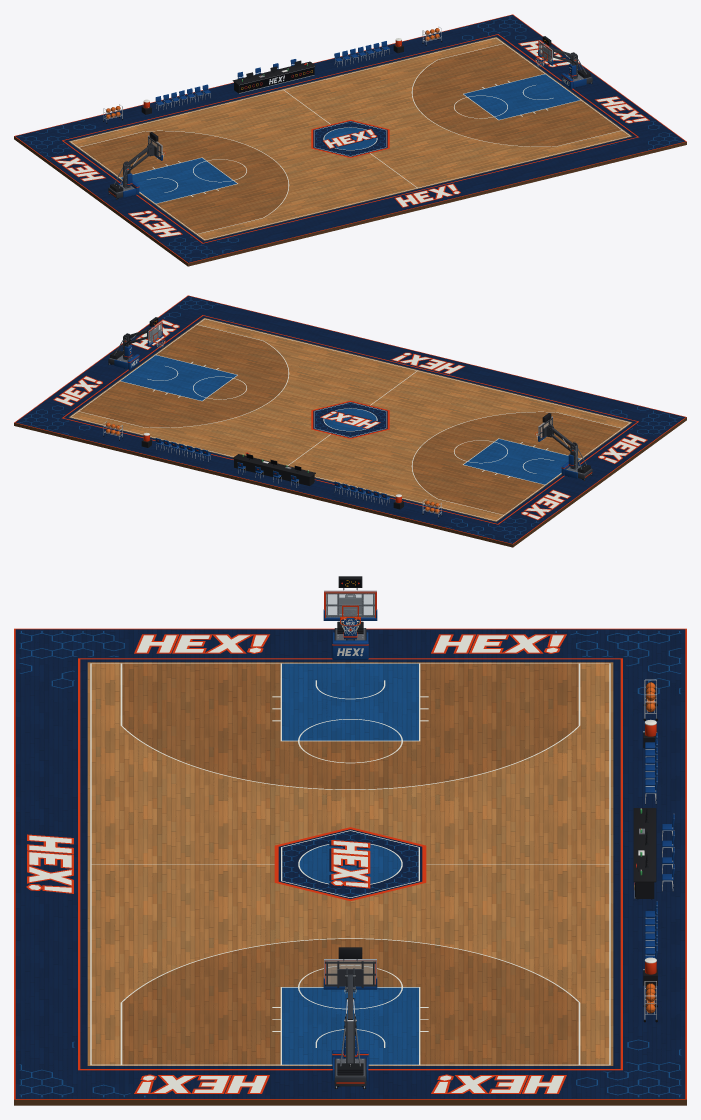
Rendered from HEX_Basketball_Court_v4.fbx.
The picture shows the model from 3 angles, top to bottom: view 1: azimuth 30°, elevation 25°; view 2: azimuth 150°, elevation 25°; view 3: azimuth 270°, elevation 25°; orthographic projection. The views are drawn at different scales.
Visible parts, largest first — view 1: Court_Surface, Court_Apron, Court_Surface_Tone, Court_Surface_Blue, Court_Apron_Marks, Court_Lines, Court_Apron_Skirt, Scorer_Table, Court_Surface_Navy, Court_Apron_Hex, Sideline_Seat_Pads, Hoop_B_Stanchion (+4 smaller); view 2: Court_Surface, Court_Apron, Court_Surface_Tone, Court_Surface_Blue, Court_Apron_Marks, Court_Lines, Court_Apron_Skirt, Scorer_Table, Court_Surface_Navy, Court_Apron_Hex, Sideline_Seat_Pads, Hoop_B_Stanchion (+4 smaller); view 3: Court_Surface, Court_Apron, Court_Surface_Tone, Court_Surface_Blue, Court_Apron_Marks, Court_Lines, Court_Apron_Skirt, Court_Surface_Navy, Court_Apron_Hex, Scorer_Table, Hoop_A_Stanchion, Sideline_Seat_Pads (+4 smaller).
Part boxes in pixels (box(x1,y1,x2,y2)): Court_Surface: box(69, 37, 631, 240); Court_Apron: box(15, 15, 685, 262); Court_Surface_Tone: box(79, 44, 621, 233); Court_Surface_Blue: box(120, 74, 579, 203); Court_Apron_Marks: box(14, 14, 686, 263); Court_Lines: box(70, 38, 630, 239); Court_Apron_Skirt: box(14, 136, 686, 266); Scorer_Table: box(232, 60, 315, 93); Court_Surface_Navy: box(313, 121, 387, 156); Court_Apron_Hex: box(18, 16, 681, 261); Sideline_Seat_Pads: box(155, 41, 389, 105); Hoop_B_Stanchion: box(108, 146, 151, 199); Court_Surface: box(69, 318, 631, 521); Court_Apron: box(15, 296, 685, 543); Court_Surface_Tone: box(79, 325, 621, 514); Court_Surface_Blue: box(121, 355, 580, 484); Court_Apron_Marks: box(14, 295, 686, 544); Court_Lines: box(70, 319, 630, 520); Court_Apron_Skirt: box(14, 417, 686, 547); Scorer_Table: box(232, 454, 315, 485); Court_Surface_Navy: box(313, 402, 387, 437); Court_Apron_Hex: box(19, 297, 682, 542); Sideline_Seat_Pads: box(155, 438, 389, 499); Hoop_B_Stanchion: box(549, 427, 592, 480); Court_Surface: box(87, 662, 613, 1065); Court_Apron: box(15, 629, 685, 1098); Court_Surface_Tone: box(122, 663, 578, 1064); Court_Surface_Blue: box(282, 663, 418, 1064); Court_Apron_Marks: box(14, 628, 686, 1099); Court_Lines: box(90, 663, 610, 1065); Court_Apron_Skirt: box(14, 1099, 686, 1105); Court_Surface_Navy: box(278, 829, 422, 898); Court_Apron_Hex: box(19, 631, 681, 1097); Scorer_Table: box(633, 808, 656, 899); Hoop_A_Stanchion: box(334, 974, 366, 1088); Sideline_Seat_Pads: box(645, 732, 674, 958).
Bounding box in the file's own units: 141 × 15 × 85.
7 materials, 7 textured.
